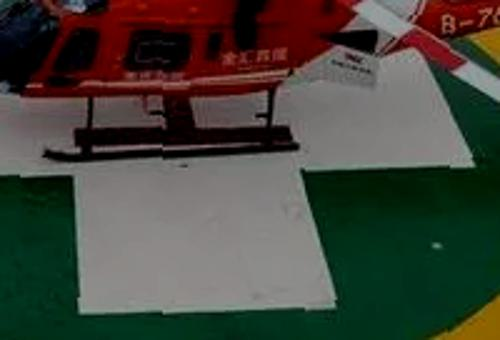Apron: (1, 1, 497, 337)
